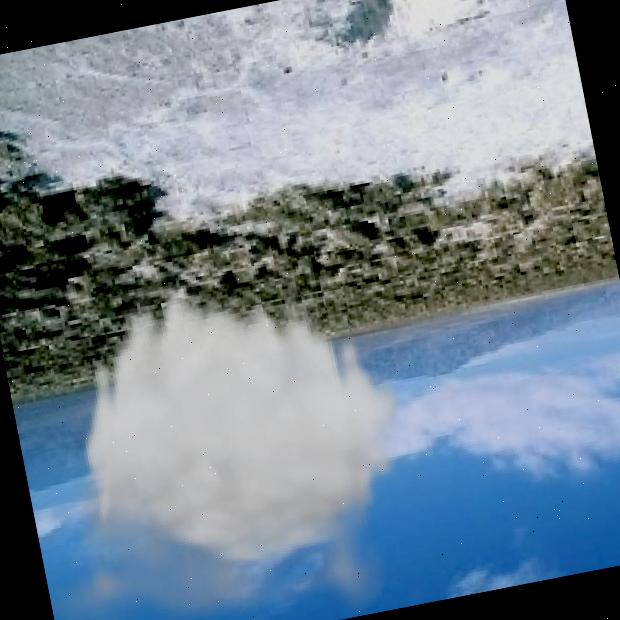smoke: (0, 237, 442, 620)
